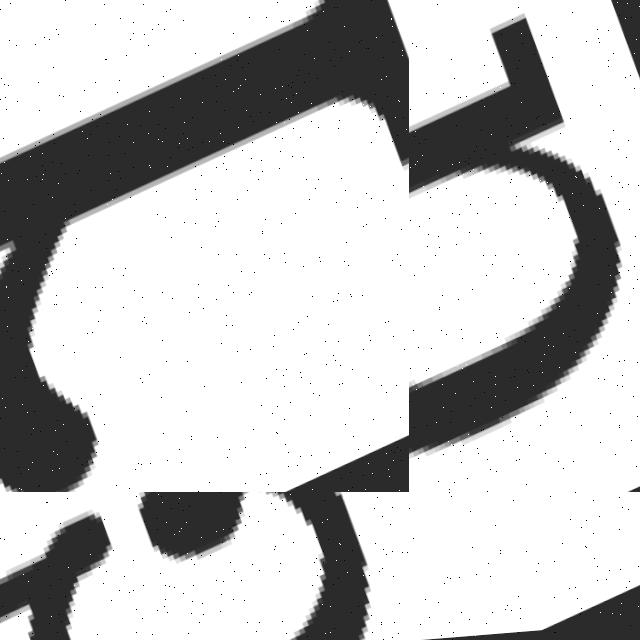1: (409, 492, 640, 566)
5: (0, 492, 409, 640)
B: (409, 21, 625, 461)
R: (0, 0, 409, 492)
